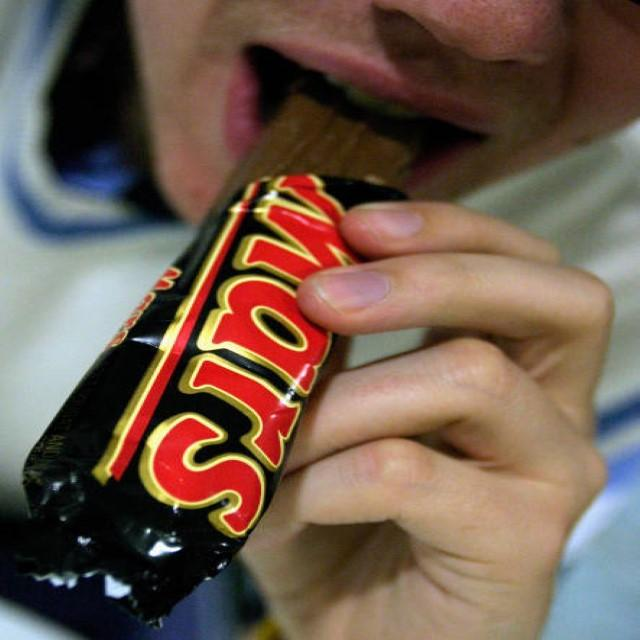mars_chocolate: (235, 120, 377, 588)
